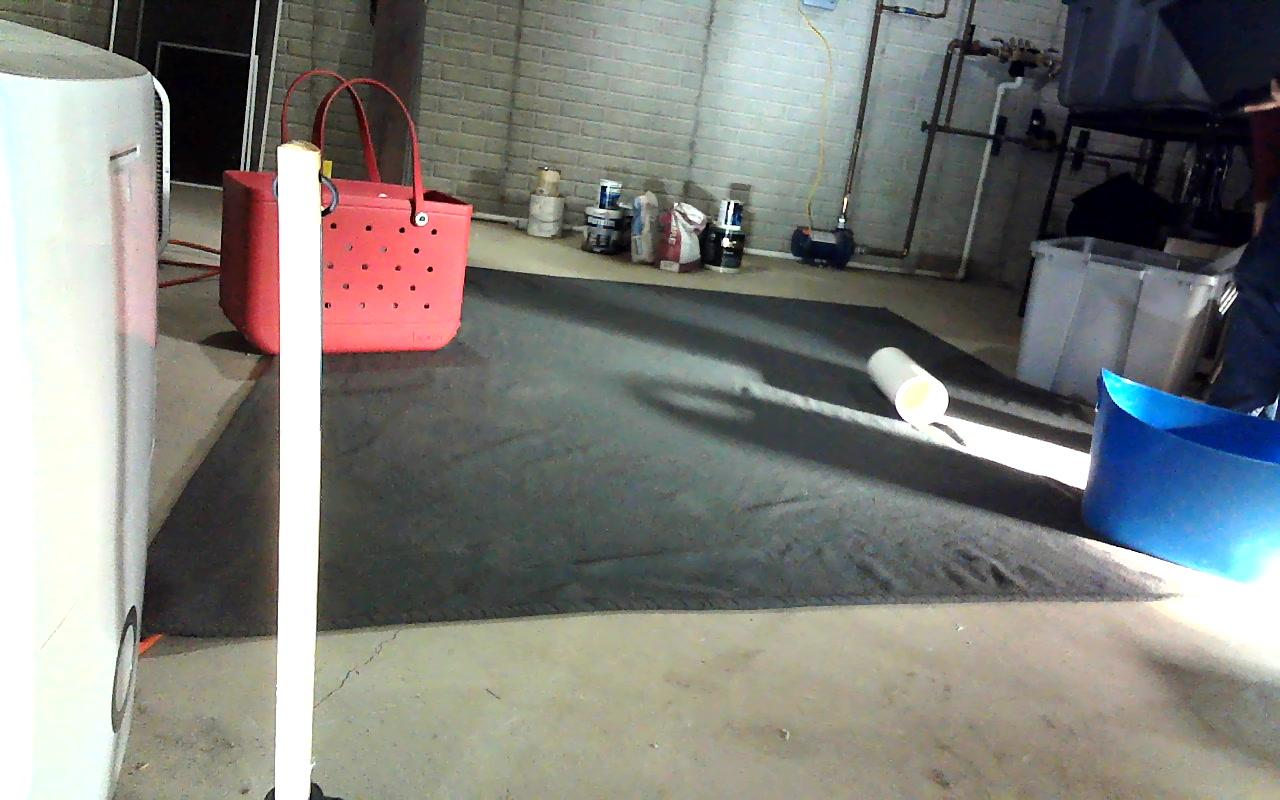coral: (868, 346, 949, 421)
